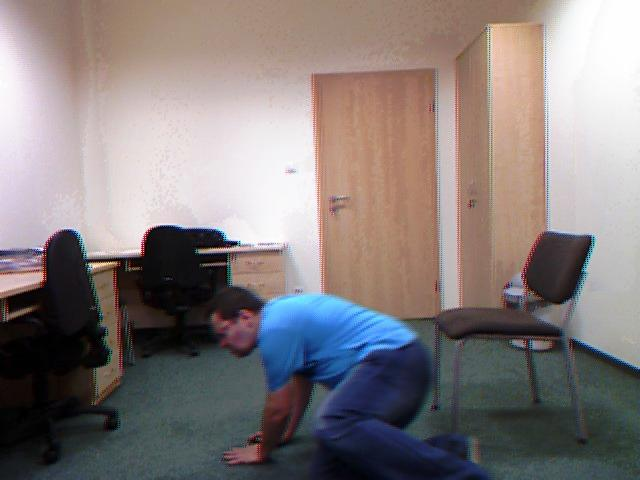fall: (200, 275, 494, 480)
